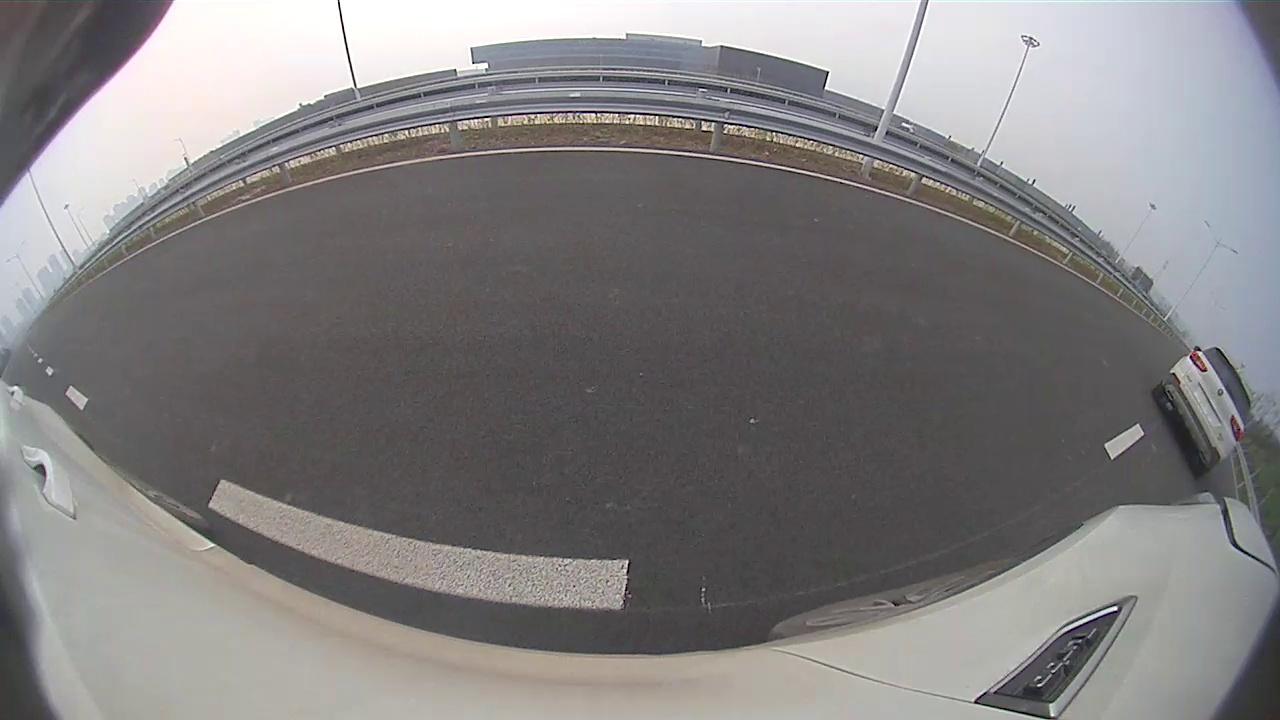car: (1071, 218, 1277, 531)
front: (1109, 367, 1268, 532)
